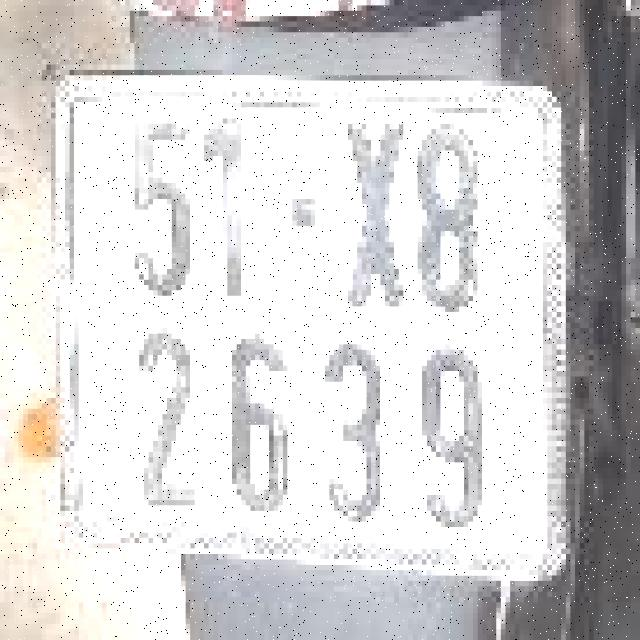1: (202, 99, 257, 320)
2: (123, 315, 202, 524)
3: (322, 336, 392, 535)
5: (112, 102, 200, 307)
6: (218, 326, 297, 524)
8: (406, 105, 498, 320)
9: (406, 331, 489, 540)
X: (329, 105, 404, 314)
